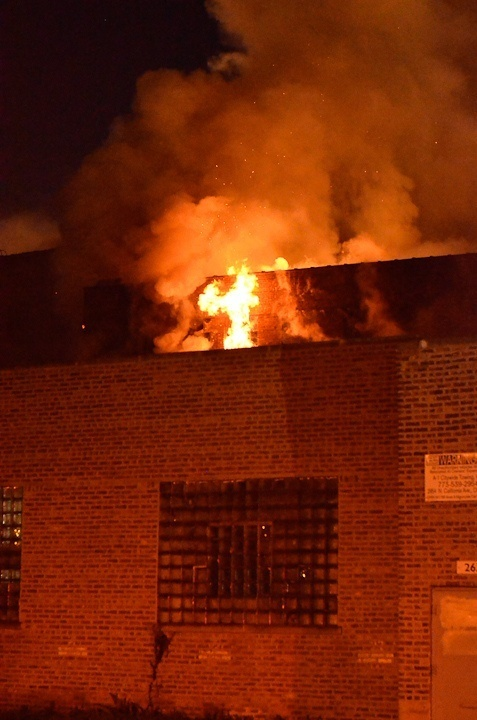fire: (192, 248, 299, 352)
